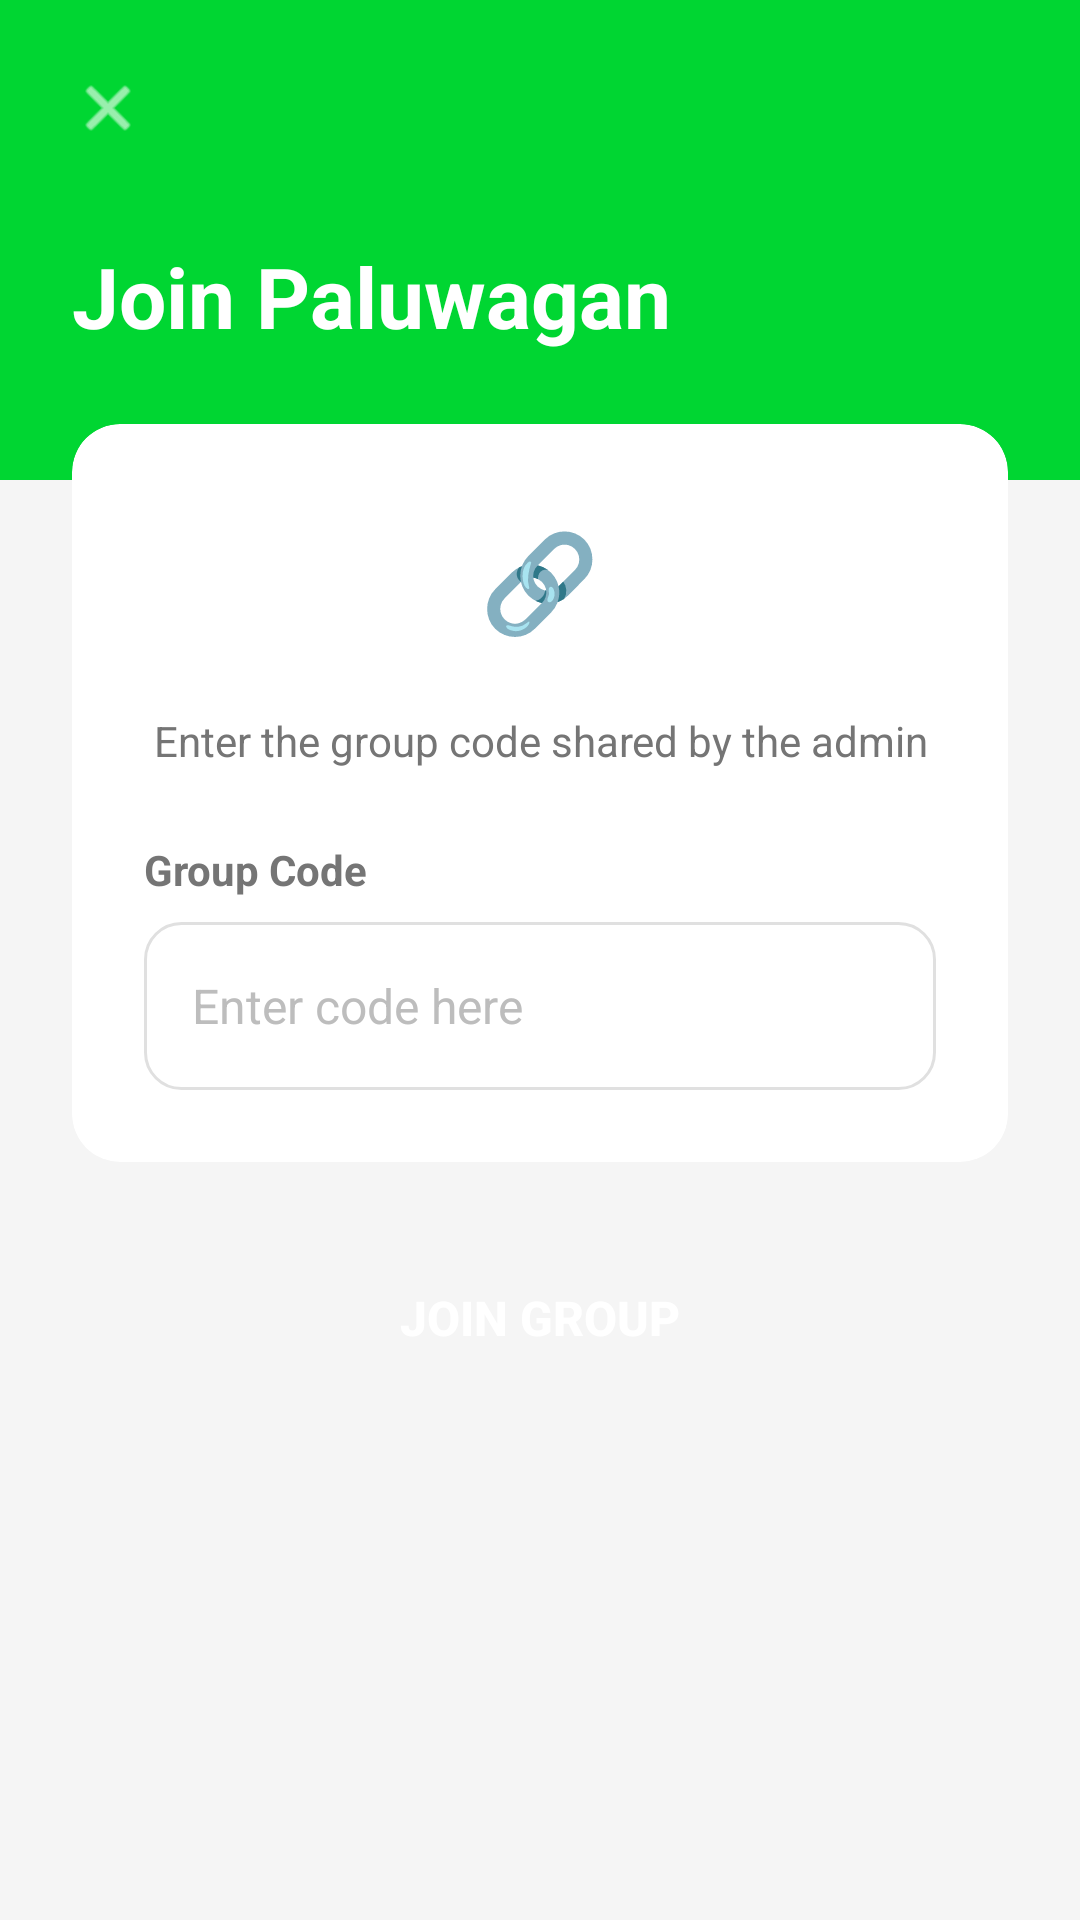

Screen size 1080x1920. Icon name, then its box in pixels as (x1, y1, x2, y2):
close clear cancel: (85, 85, 131, 131)
